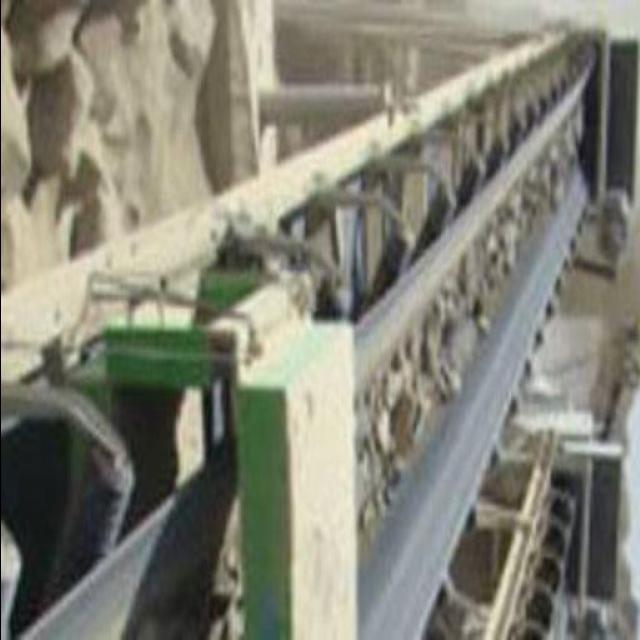conveyor: (349, 62, 599, 640)
